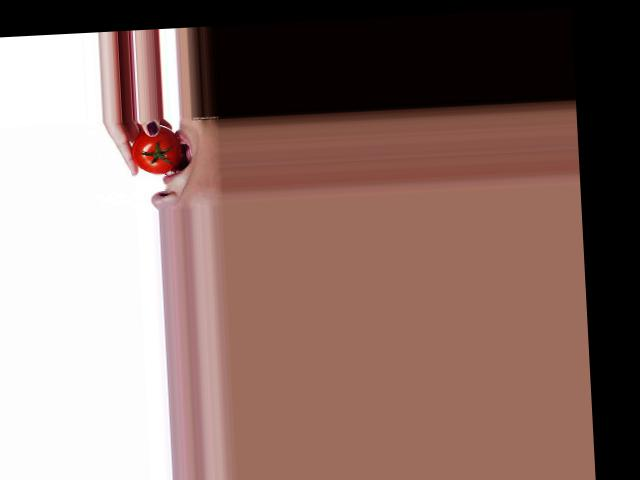tomato: (129, 123, 181, 175)
